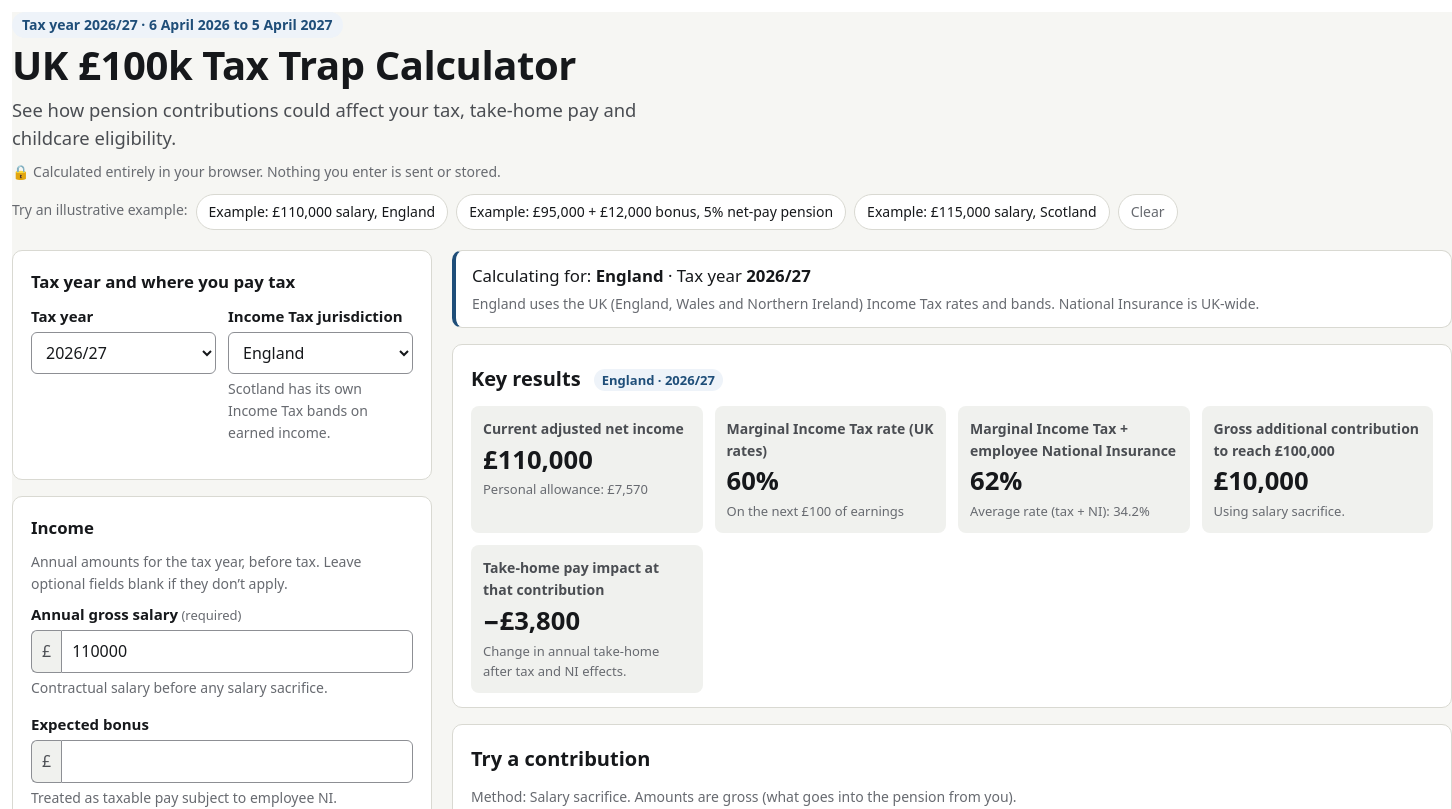
calculator UI › switching to Scotland changes the marginal rate
Select "Scotland" in the dropdown labelled "Income Tax jurisdiction" at [320, 353], box [228, 332, 413, 374]
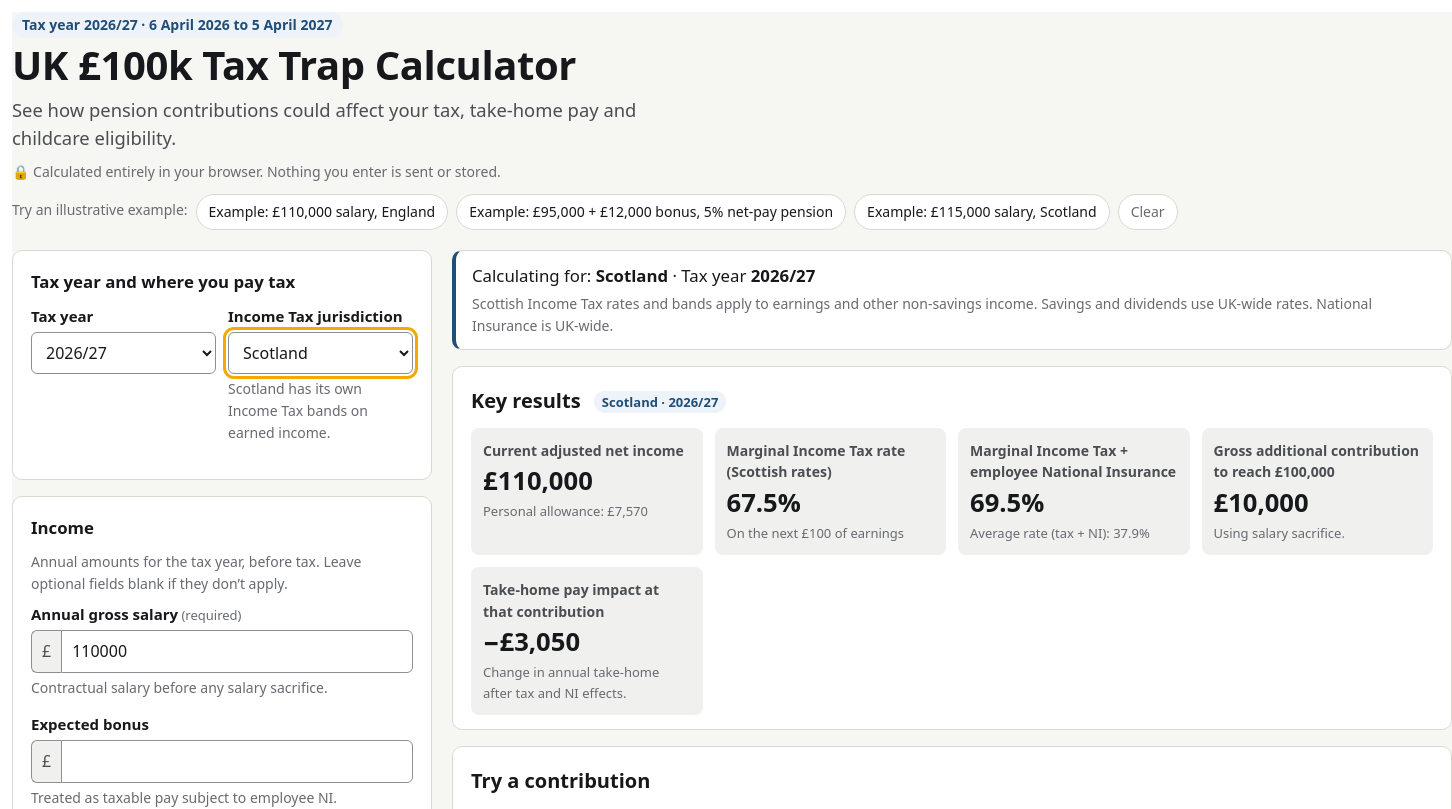
Now the text with test id "marginal-it" reads "67.5%", box [726, 485, 801, 520]
Now the text with test id "marginal-combined" reads "69.5%", box [970, 485, 1044, 520]
